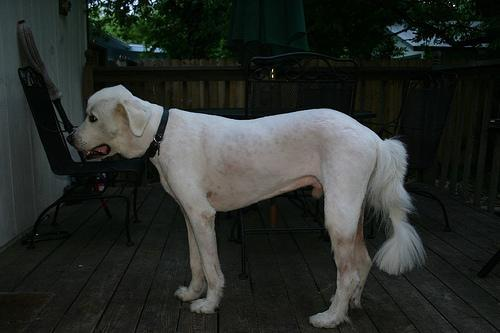Great_Pyrenees: (63, 81, 426, 330)
